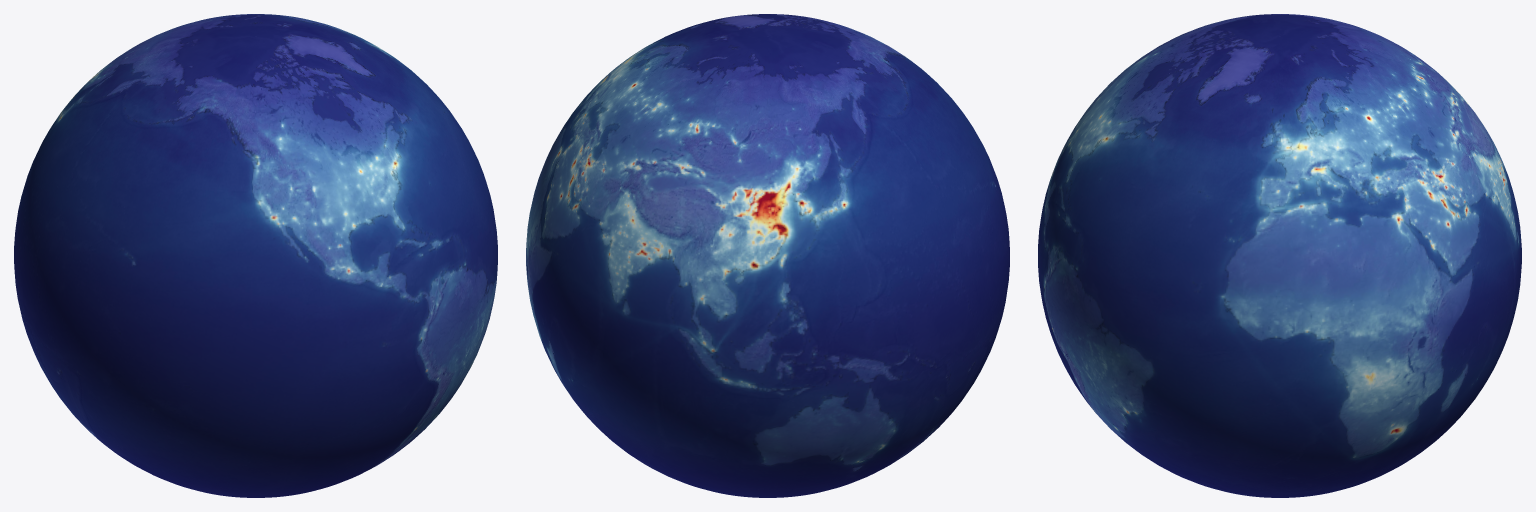
The model's file is bloveno2-smaller.glb.
3 renders of one model, left to right at view 1: azimuth 30°, elevation 25°; view 2: azimuth 150°, elevation 25°; view 3: azimuth 270°, elevation 25°, orthographic.
Visible parts, largest first — view 1: Sphere; view 2: Sphere; view 3: Sphere.
Boxes of the visible parts, bbox=[...] form: Sphere: bbox=[14, 14, 497, 497]; Sphere: bbox=[526, 14, 1009, 497]; Sphere: bbox=[1038, 14, 1521, 497].
Bounding box in the file's own units: 3.82 × 3.82 × 3.81.
1 material, 1 textured.
